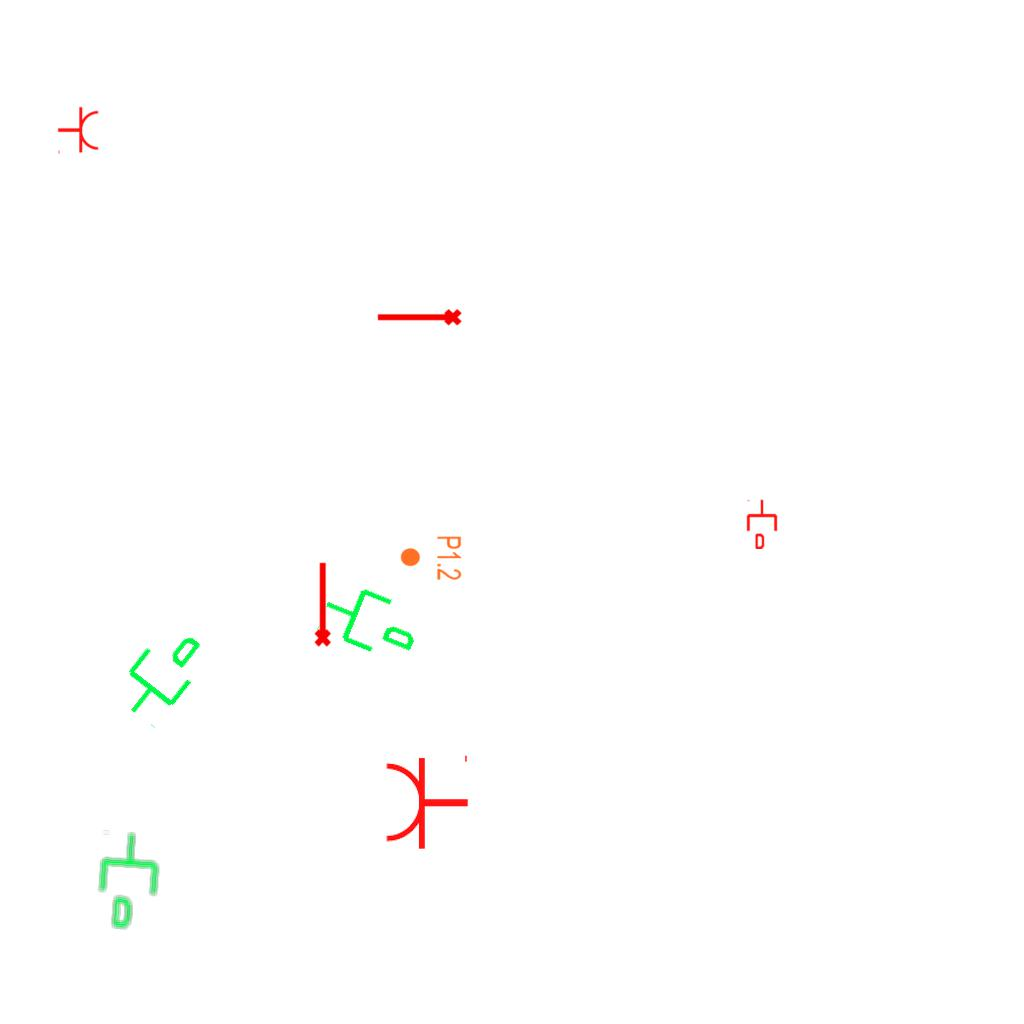ASR_Ansaugoeffnung: (310, 560, 333, 648), (375, 307, 463, 330)
Datenanschluss_einfach: (102, 612, 219, 734), (312, 569, 431, 671), (92, 828, 169, 934), (745, 499, 779, 549)
Downlight_LED_Einbauleuchten_Flur: (399, 535, 463, 581)
Schukosteckdose_einfach: (383, 751, 470, 851), (57, 106, 100, 156)
